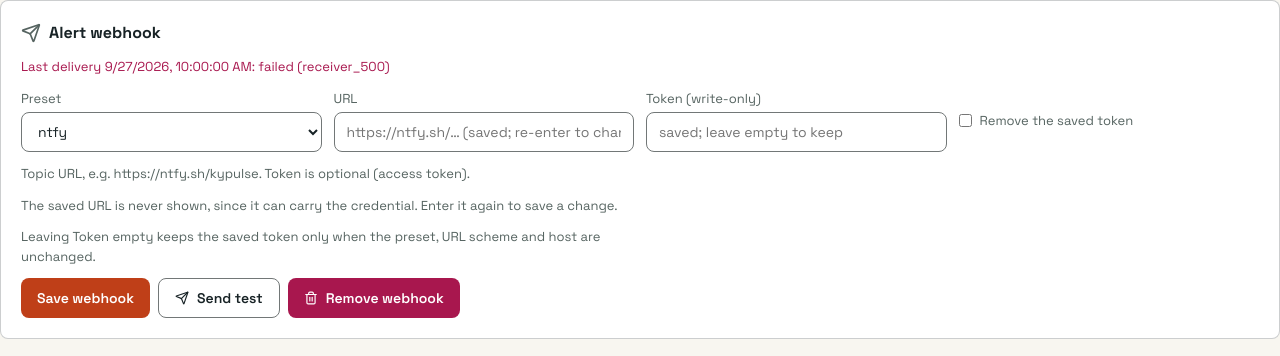
WebhookForm › clears the form after the webhook is removed
Click the button "Remove webhook".
click(374, 298)  # box [288, 278, 460, 318]
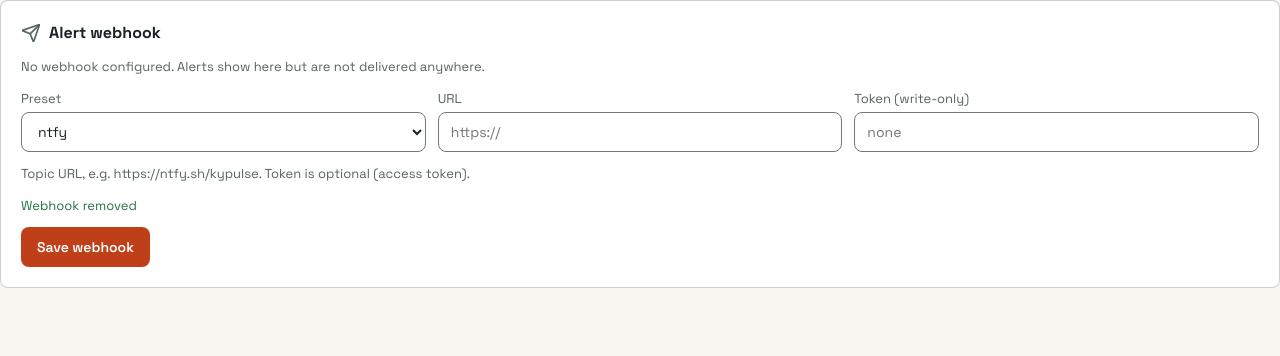
Expected: the field labelled "URL" is empty, [438, 112, 842, 152]
Now the text "No webhook configured" is shown, box [21, 58, 485, 75]
Now the button "Remove webhook" is gone
